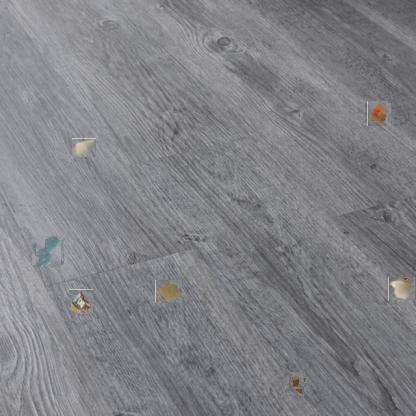dirty: (388, 278, 415, 302), (69, 290, 94, 314), (366, 102, 390, 125), (72, 138, 96, 157), (286, 374, 306, 394)
liquid: (34, 238, 62, 266), (155, 280, 182, 304)
